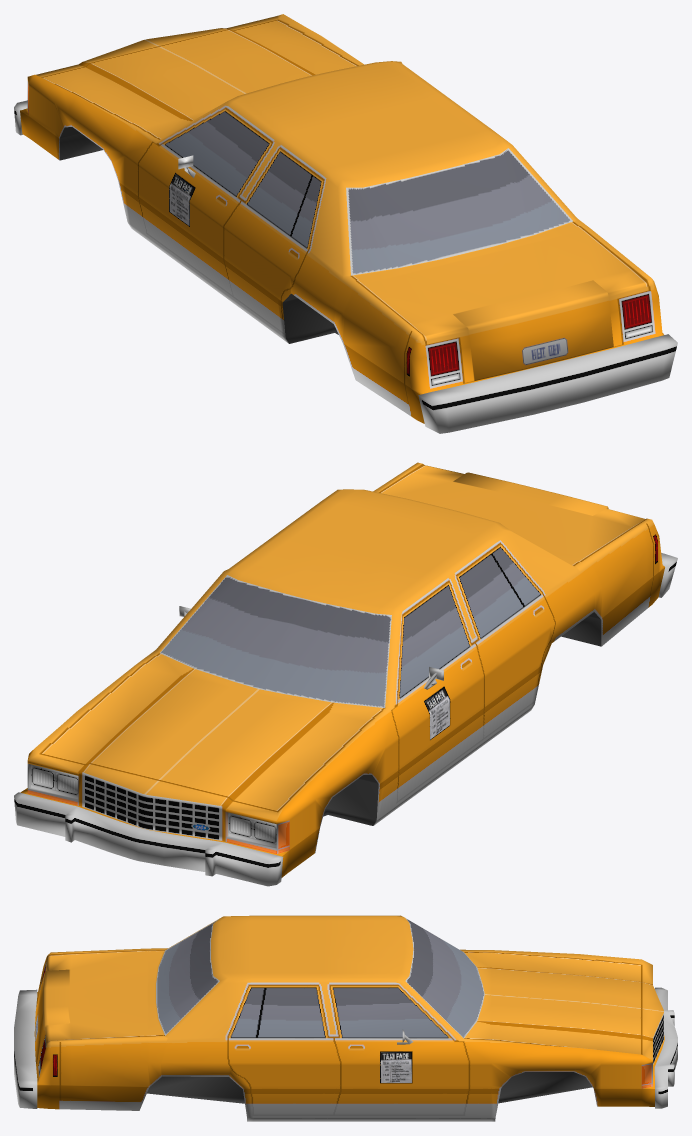
The model's file is 86crownvictoria.fbx.
The picture shows the model from 3 angles, top to bottom: view 1: azimuth 30°, elevation 25°; view 2: azimuth 150°, elevation 25°; view 3: azimuth 270°, elevation 25°; orthographic projection. The views are drawn at different scales.
Visible parts, largest first — view 1: 86crownvictoria; view 2: 86crownvictoria; view 3: 86crownvictoria.
Boxes of the visible parts, left/top/right/bottom form: 86crownvictoria: left=14, top=14, right=677, bottom=433; 86crownvictoria: left=14, top=462, right=677, bottom=886; 86crownvictoria: left=14, top=915, right=677, bottom=1121.
Size of the model in its own units: 1.98 by 1.16 by 5.47.
